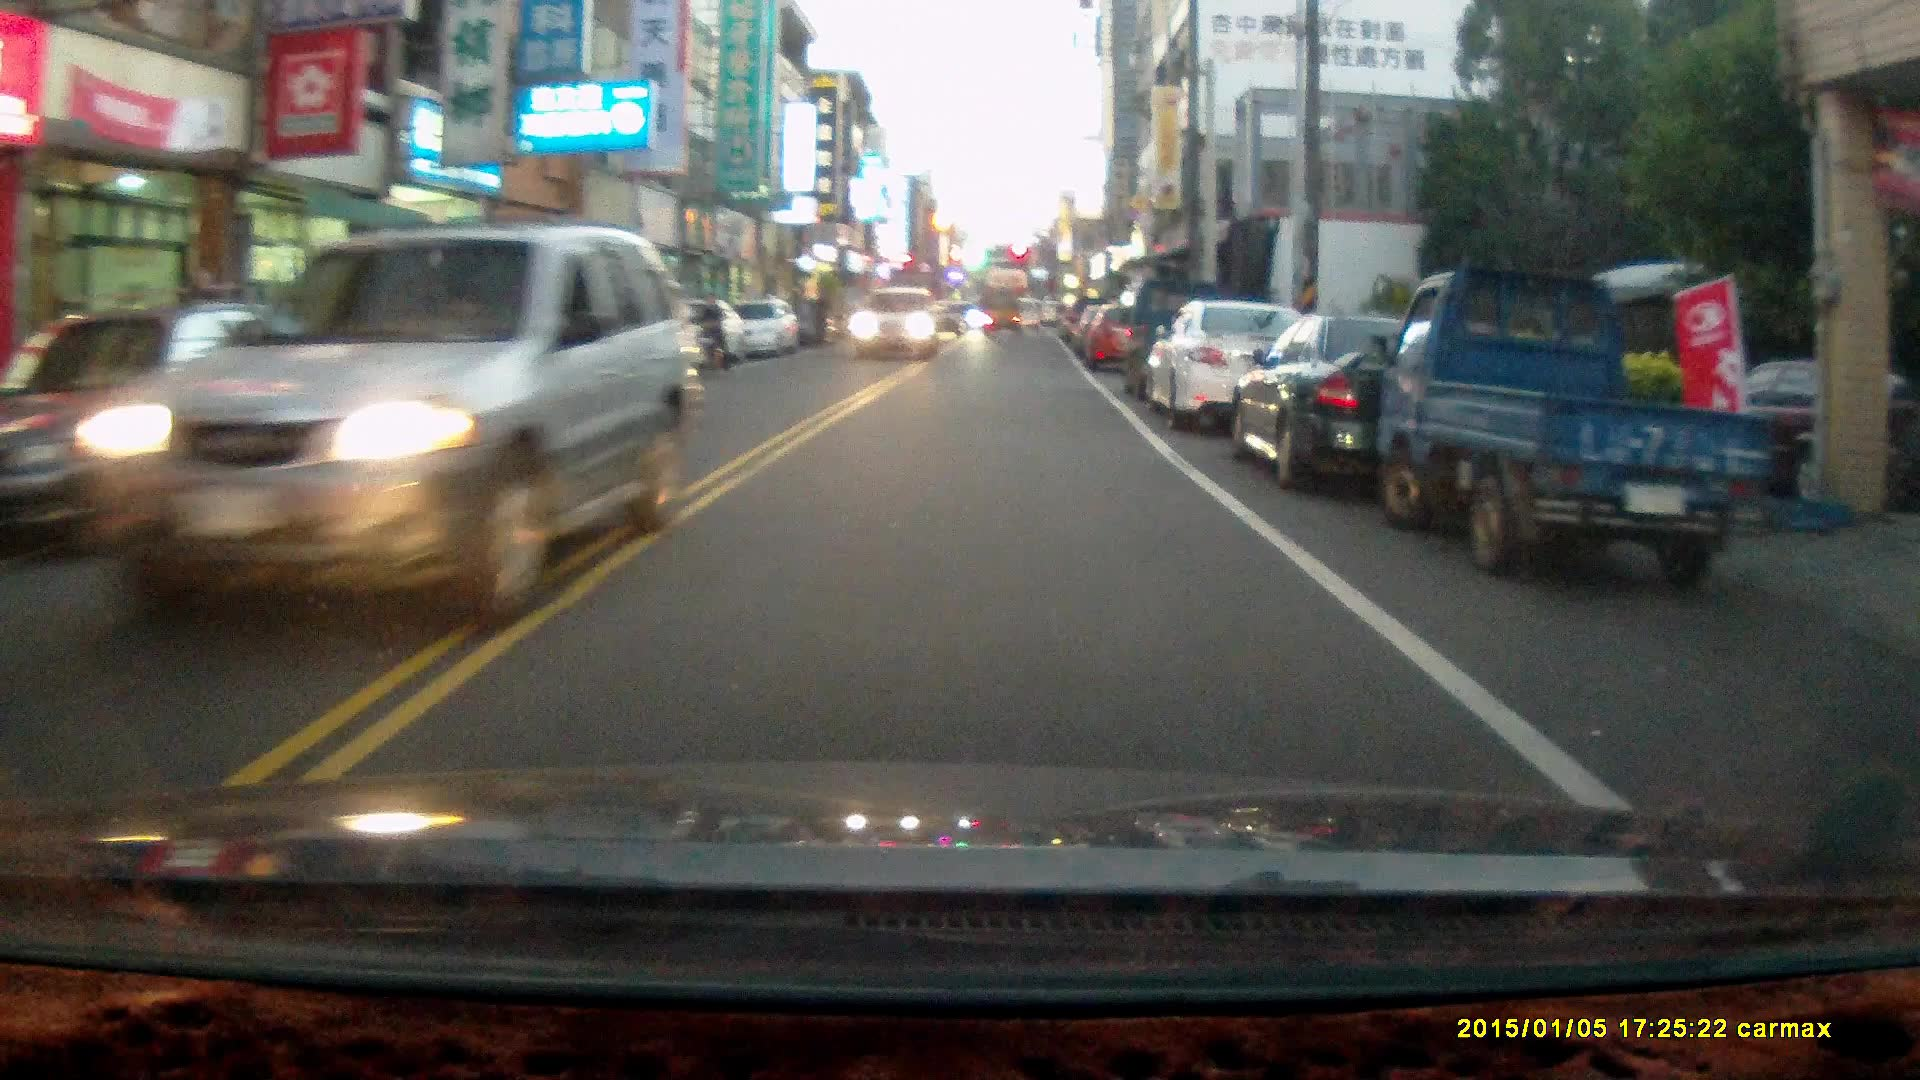pedestrian: (811, 284, 832, 343)
rider: (688, 291, 732, 374)
vehicle: (59, 218, 678, 631), (1374, 268, 1785, 589), (1, 297, 408, 540), (1226, 309, 1556, 497), (1139, 298, 1327, 435), (849, 286, 941, 366), (1083, 301, 1162, 374), (728, 296, 806, 361), (981, 289, 1024, 338)
